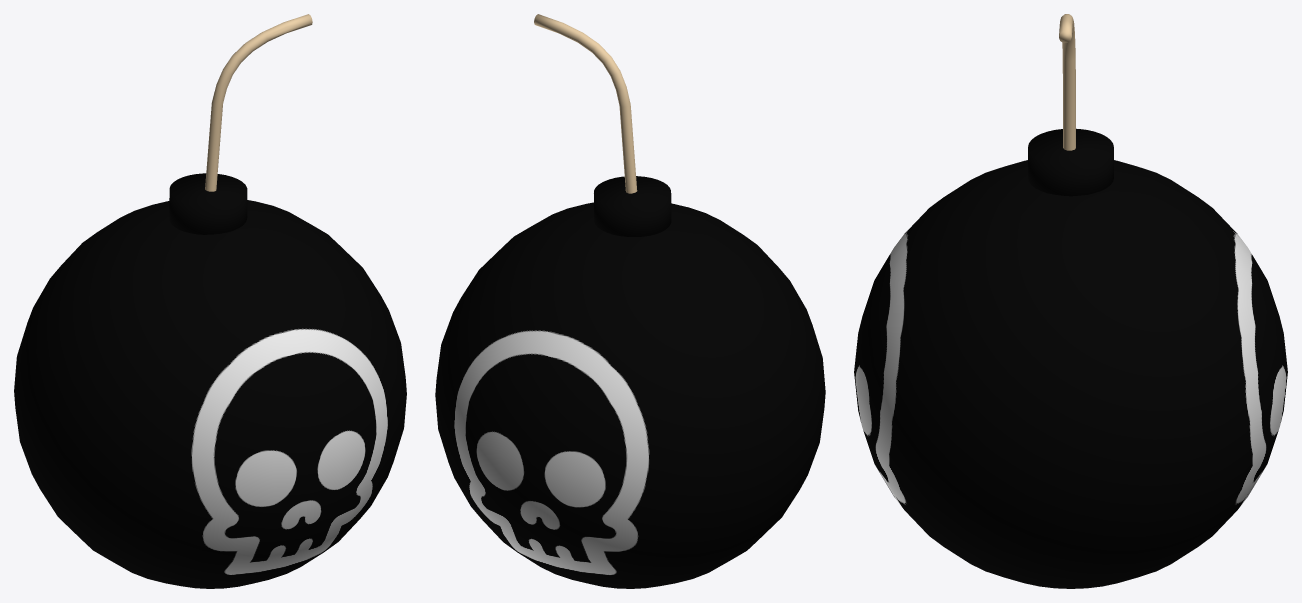
File: bomba.fbx
3 renders of one model, left to right at view 1: azimuth 30°, elevation 25°; view 2: azimuth 150°, elevation 25°; view 3: azimuth 270°, elevation 25°, orthographic. The views are drawn at different scales.
Visible parts, largest first — view 1: CherryBomb.002; view 2: CherryBomb.002; view 3: CherryBomb.002.
Part boxes in pixels (left/top/right/bottom): CherryBomb.002: left=14, top=14, right=406, bottom=588; CherryBomb.002: left=435, top=14, right=825, bottom=588; CherryBomb.002: left=854, top=14, right=1287, bottom=588.
Size of the model in its own units: 200 by 300 by 200.
Materials: 2 (1 with a texture image).
